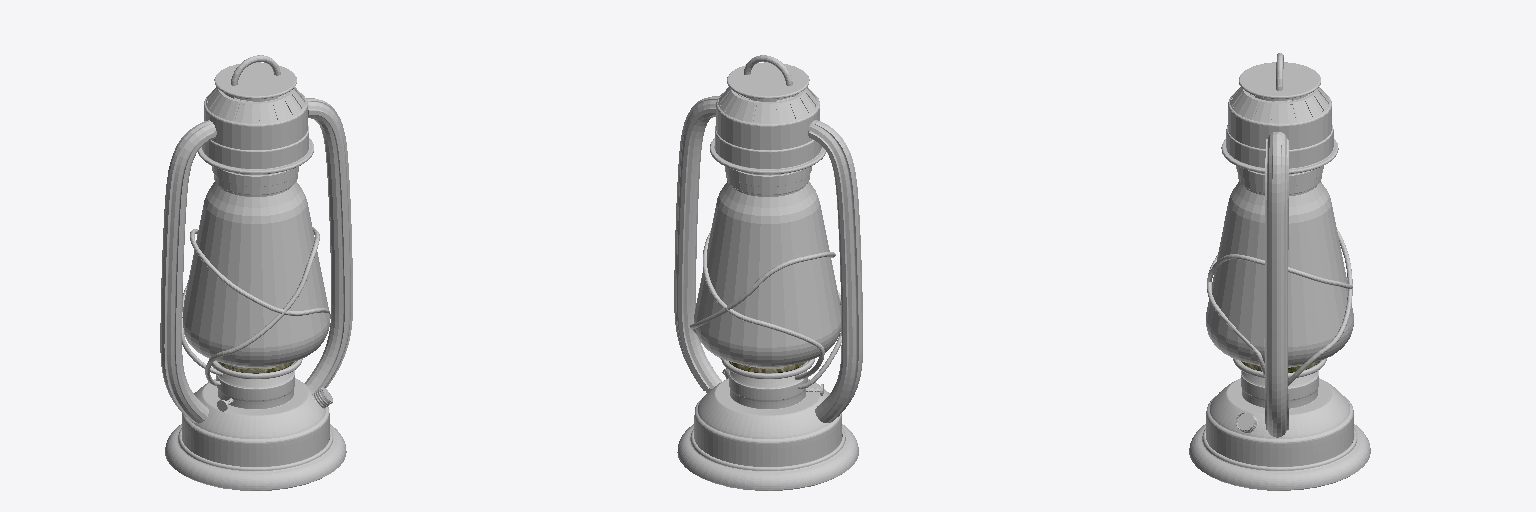
3 renders of one model, left to right at view 1: azimuth 30°, elevation 25°; view 2: azimuth 150°, elevation 25°; view 3: azimuth 270°, elevation 25°, orthographic.
Visible parts, largest first — view 1: Cilindro, Cerchio, Cerchio.001, Curva_Bezier.001_Mesh.002, Curva_Bezier_Mesh, Curva_Bezier.002_Mesh.003; view 2: Cilindro, Cerchio, Cerchio.001, Curva_Bezier.001_Mesh.002, Curva_Bezier_Mesh, Curva_Bezier.002_Mesh.003; view 3: Cilindro, Cerchio, Cerchio.001, Curva_Bezier_Mesh, Curva_Bezier.002_Mesh.003.
Boxes of the visible parts, x1,y1,x2,y2 form: Cilindro: [182, 181, 329, 372]; Cerchio: [165, 358, 346, 490]; Cerchio.001: [198, 62, 313, 194]; Curva_Bezier.001_Mesh.002: [160, 120, 216, 423]; Curva_Bezier_Mesh: [305, 98, 352, 391]; Curva_Bezier.002_Mesh.003: [182, 227, 330, 385]; Cilindro: [694, 181, 840, 373]; Cerchio: [677, 358, 858, 490]; Cerchio.001: [710, 62, 825, 194]; Curva_Bezier.001_Mesh.002: [808, 120, 862, 422]; Curva_Bezier_Mesh: [674, 96, 721, 392]; Curva_Bezier.002_Mesh.003: [690, 231, 841, 388]; Cilindro: [1206, 181, 1353, 369]; Cerchio: [1189, 358, 1370, 490]; Cerchio.001: [1221, 62, 1338, 194]; Curva_Bezier_Mesh: [1265, 132, 1288, 437]; Curva_Bezier.002_Mesh.003: [1207, 229, 1352, 385].
Size of the model in its own units: 0.2264 by 0.4598 by 0.189.
Materials: 3 (1 with a texture image).